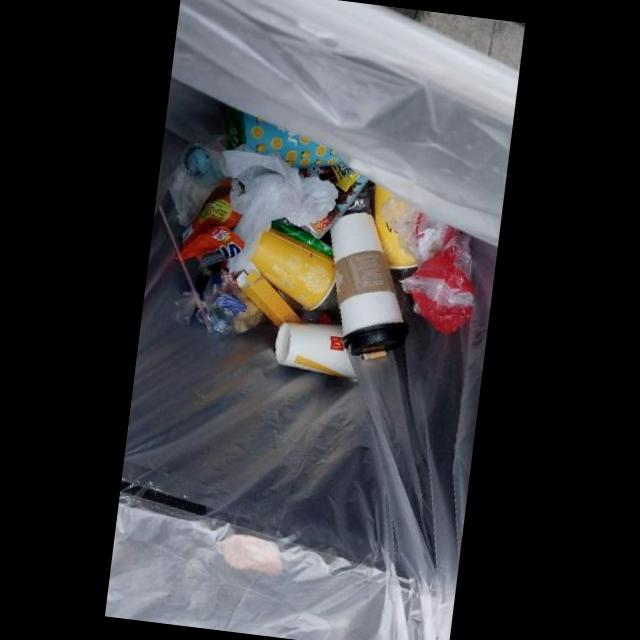bao_bi_thuc_pham: (174, 176, 244, 261)
carton: (330, 211, 403, 335), (251, 227, 335, 309), (275, 321, 355, 379), (236, 261, 302, 327), (374, 184, 417, 269)
ong_hut_nhua: (160, 204, 212, 331)
tui_ni_long: (222, 148, 338, 272), (380, 194, 474, 333), (200, 259, 263, 333), (174, 296, 195, 324)
